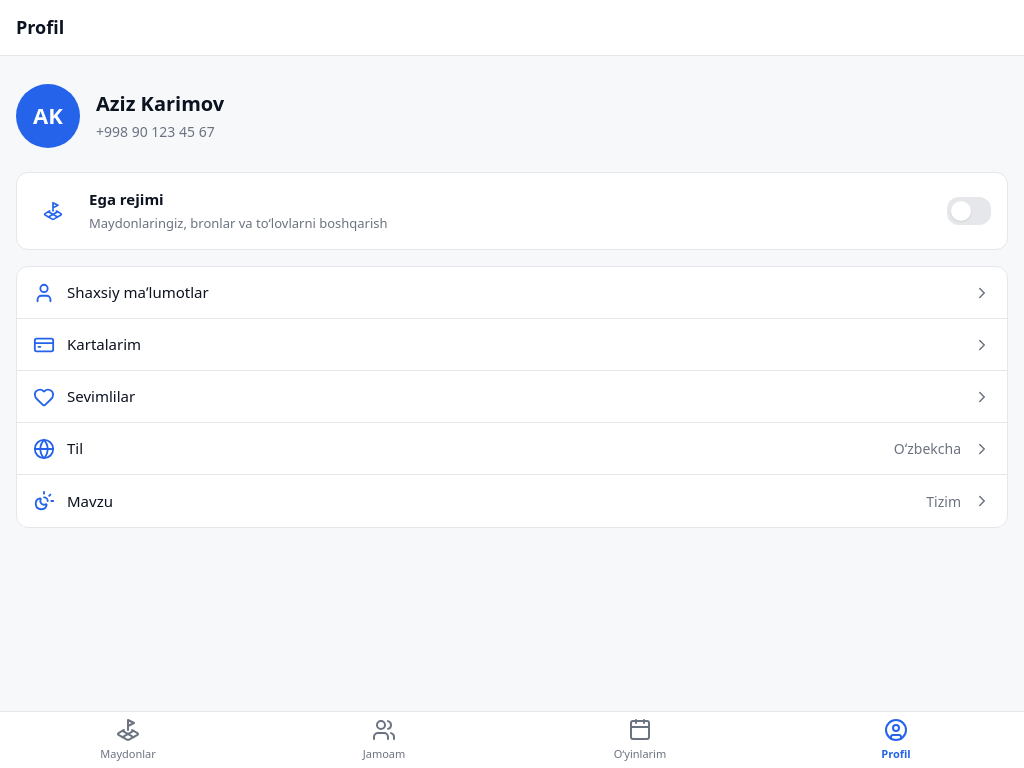
Scenario: Profil › shows "Ega rejimi" only when the owner has a stadium, and opens owner mode
Click the switch named "Ega rejimi" at (969, 211), box [947,189,991,233]
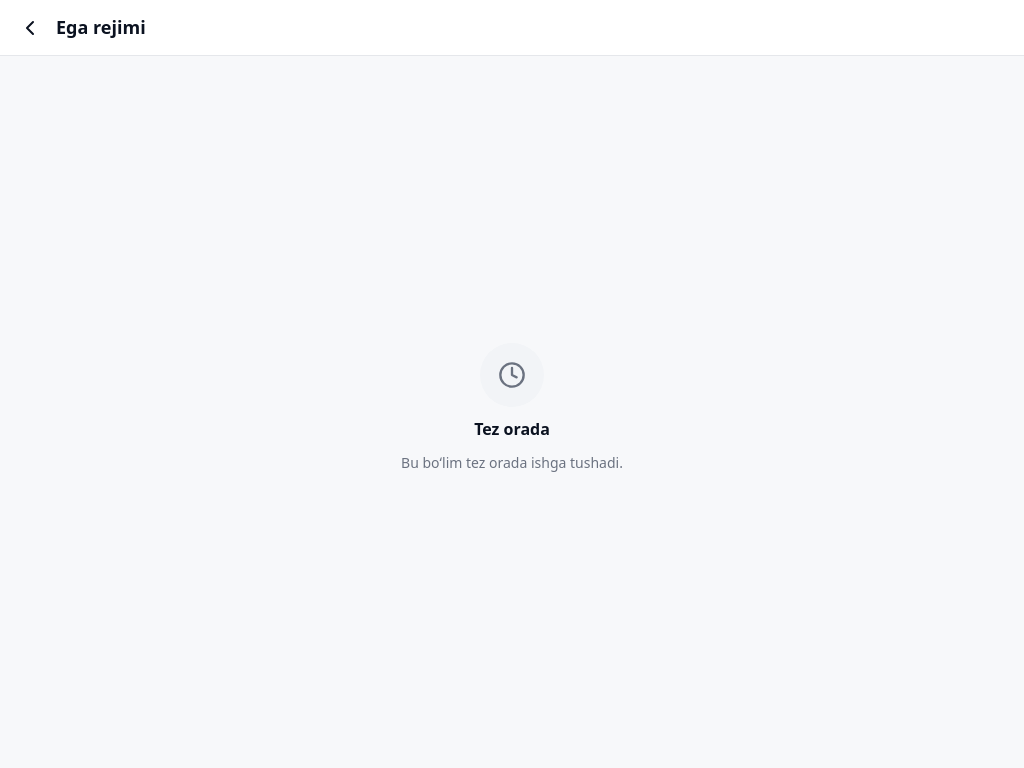
Now the heading "Ega rejimi" is shown, box [56,15,146,39]
Now the heading "Tez orada" is shown, box [474,418,550,440]
